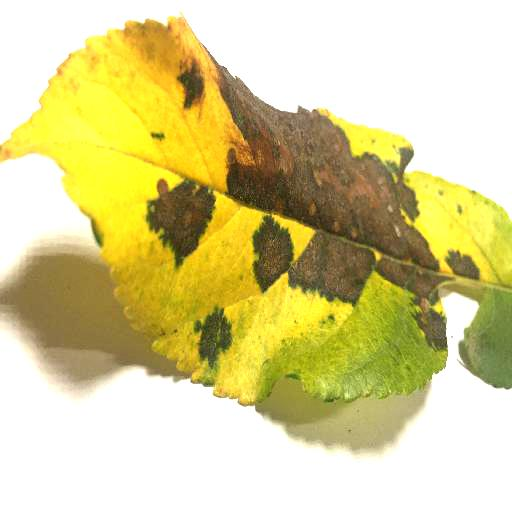Brown_Spot: (131, 51, 481, 366)
